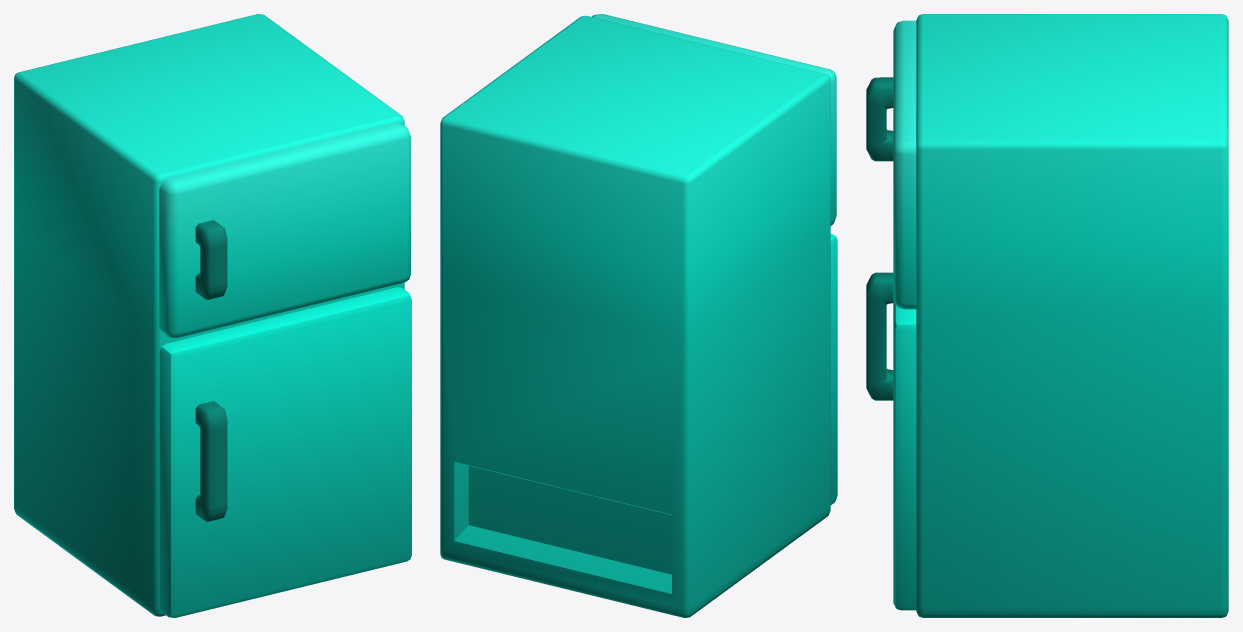
The model's file is Refrigerator_01_C05.fbx.
The picture shows the model from 3 angles, left to right: view 1: azimuth 30°, elevation 25°; view 2: azimuth 150°, elevation 25°; view 3: azimuth 270°, elevation 25°; orthographic projection. The views are drawn at different scales.
Visible parts, largest first — view 1: Refrigerator_01_C05, Refrigerator_01_C05_Door_L, Refrigerator_01_C05_Door_U; view 2: Refrigerator_01_C05, Refrigerator_01_C05_Door_U, Refrigerator_01_C05_Door_L; view 3: Refrigerator_01_C05, Refrigerator_01_C05_Door_L, Refrigerator_01_C05_Door_U.
Boxes of the visible parts, x1,y1,x2,y2 form: Refrigerator_01_C05: [14, 14, 404, 616]; Refrigerator_01_C05_Door_L: [159, 287, 411, 617]; Refrigerator_01_C05_Door_U: [159, 122, 410, 338]; Refrigerator_01_C05: [440, 15, 830, 617]; Refrigerator_01_C05_Door_U: [591, 14, 836, 225]; Refrigerator_01_C05_Door_L: [830, 234, 837, 504]; Refrigerator_01_C05: [916, 14, 1228, 617]; Refrigerator_01_C05_Door_L: [866, 272, 916, 610]; Refrigerator_01_C05_Door_U: [866, 20, 916, 309].
Size of the model in its own units: 100 by 169 by 116.
